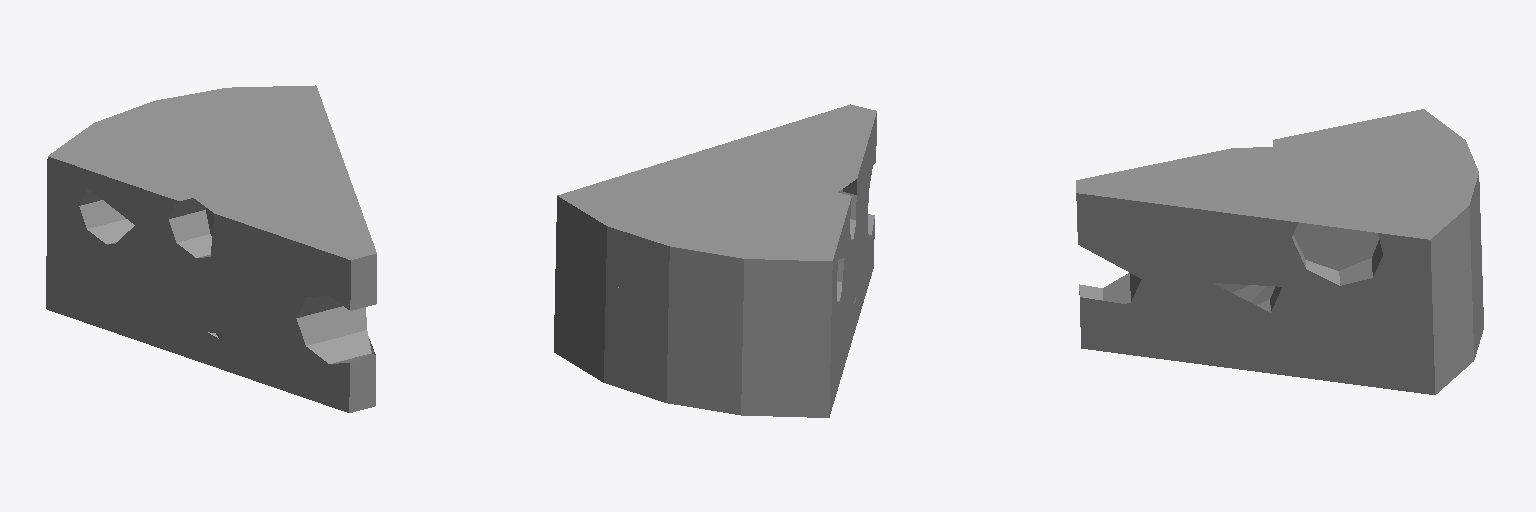
Rendered from cheesok.obj.
The picture shows the model from 3 angles: view 1: azimuth 30°, elevation 25°; view 2: azimuth 150°, elevation 25°; view 3: azimuth 270°, elevation 25°; orthographic projection.
Parts seen in each view (by area): view 1: Cube.001; view 2: Cube.001; view 3: Cube.001.
Boxes of the visible parts, x1=… form: Cube.001: x1=46, y1=85, x2=376, y2=412; Cube.001: x1=554, y1=104, x2=876, y2=417; Cube.001: x1=1076, y1=109, x2=1483, y2=394.
Size of the model in its own units: 4.54 by 2.64 by 5.88.